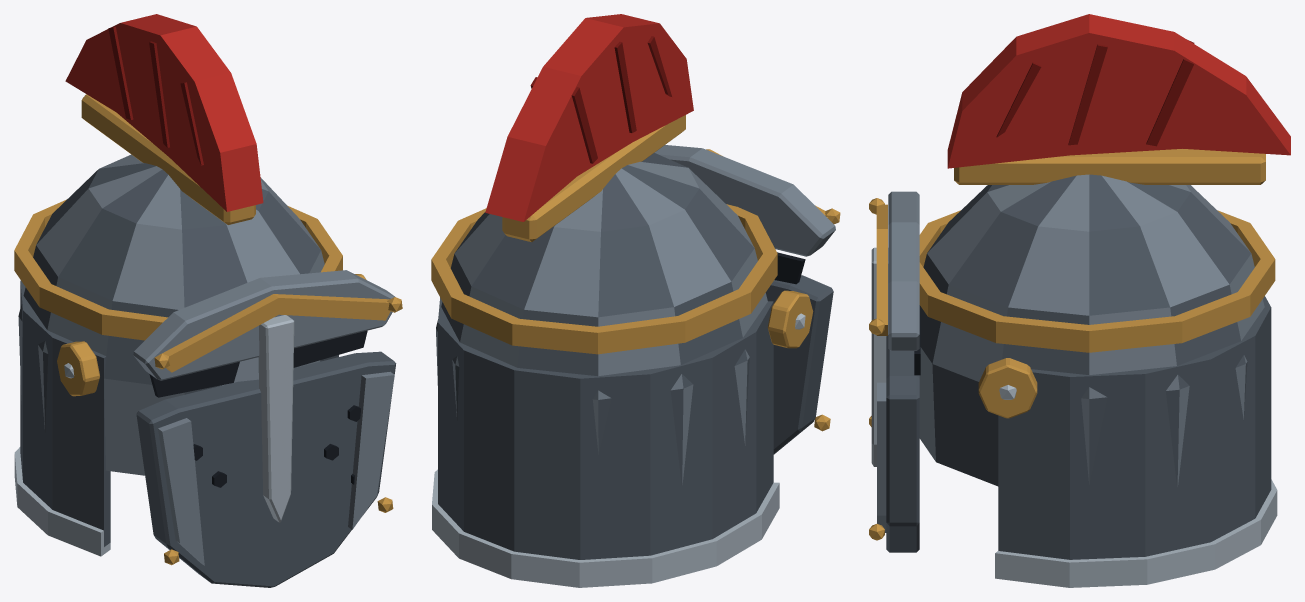
File: champion_helmet_1.glb
The picture shows the model from 3 angles, left to right: view 1: azimuth 30°, elevation 25°; view 2: azimuth 150°, elevation 25°; view 3: azimuth 270°, elevation 25°; orthographic projection. The views are drawn at different scales.
Parts seen in each view (by area): view 1: ChampionHelmet_Mesh; view 2: ChampionHelmet_Mesh; view 3: ChampionHelmet_Mesh.
Boxes of the visible parts, x1,y1,x2,y2 form: ChampionHelmet_Mesh: (14,14,402,587); ChampionHelmet_Mesh: (431,14,840,587); ChampionHelmet_Mesh: (869,14,1290,587).
Bounding box in the file's own units: 0.3571 × 0.5491 × 0.4057.
